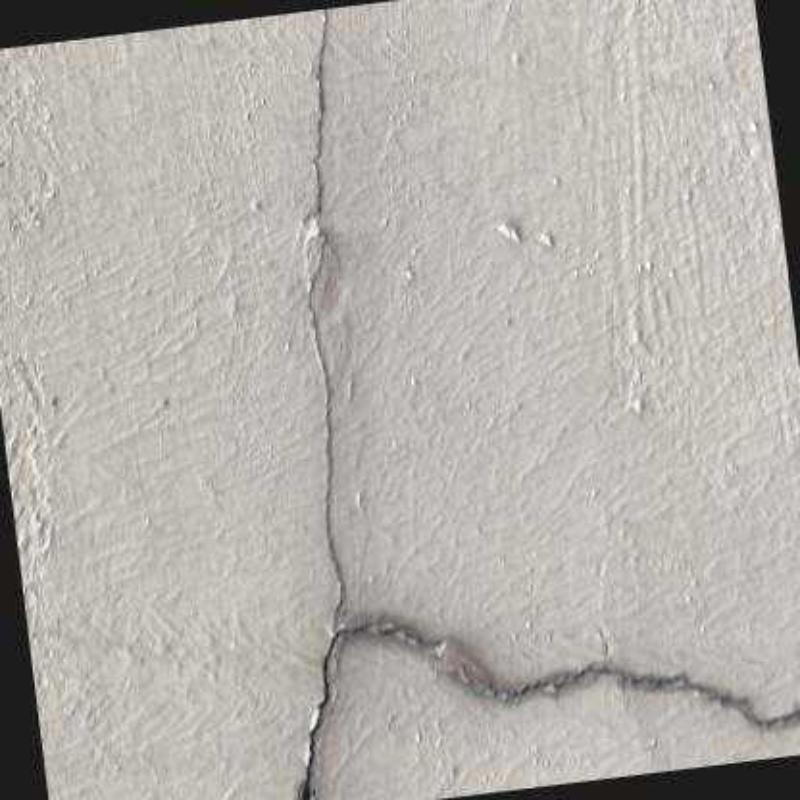pothole: (294, 6, 800, 798)
